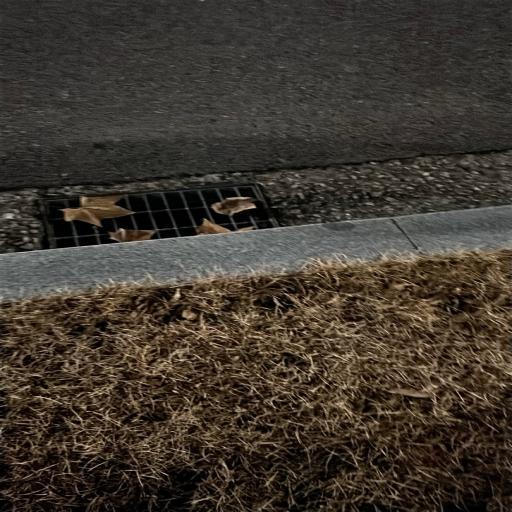debris: (61, 195, 134, 227), (211, 196, 257, 215), (109, 228, 155, 241), (196, 219, 231, 234)
drain: (38, 184, 281, 249)
